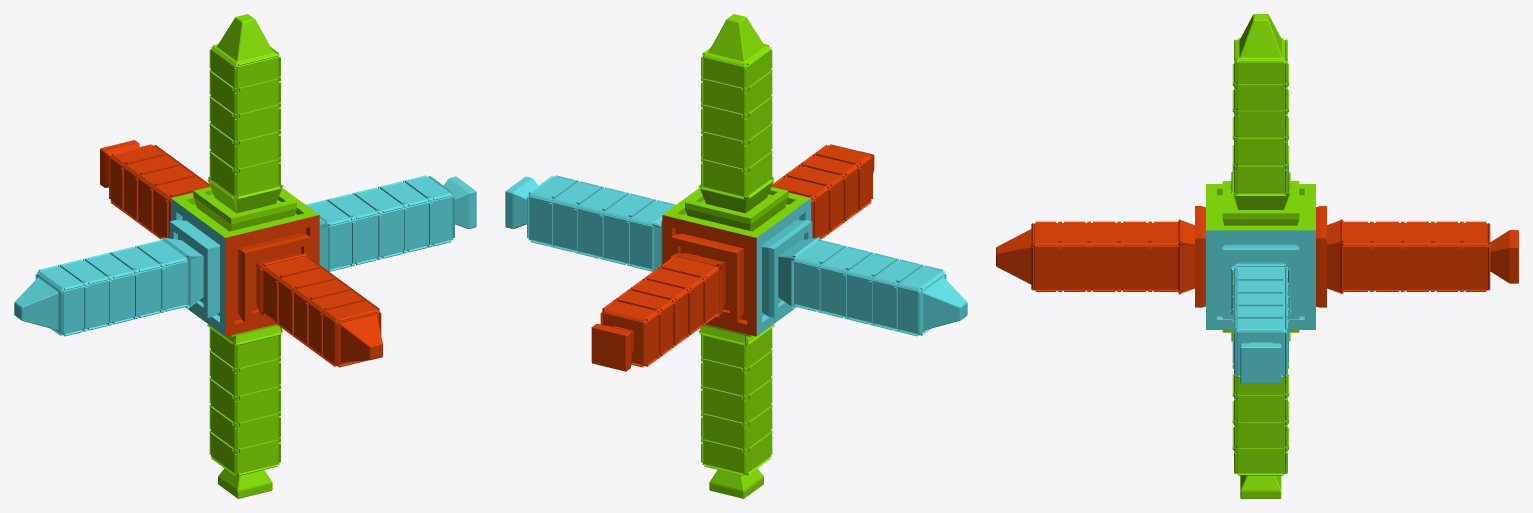
The model's file is legolike.glb.
3 renders of one model, left to right at view 1: azimuth 30°, elevation 25°; view 2: azimuth 150°, elevation 25°; view 3: azimuth 270°, elevation 25°, orthographic.
Parts seen in each view (by area): view 1: legoAxesHelp; view 2: legoAxesHelp; view 3: legoAxesHelp.
Part boxes in pixels (x1,y1,x2,y2): legoAxesHelp: (14,14,476,498); legoAxesHelp: (505,14,967,498); legoAxesHelp: (996,14,1518,498).
Size of the model in its own units: 1 by 1 by 1.
